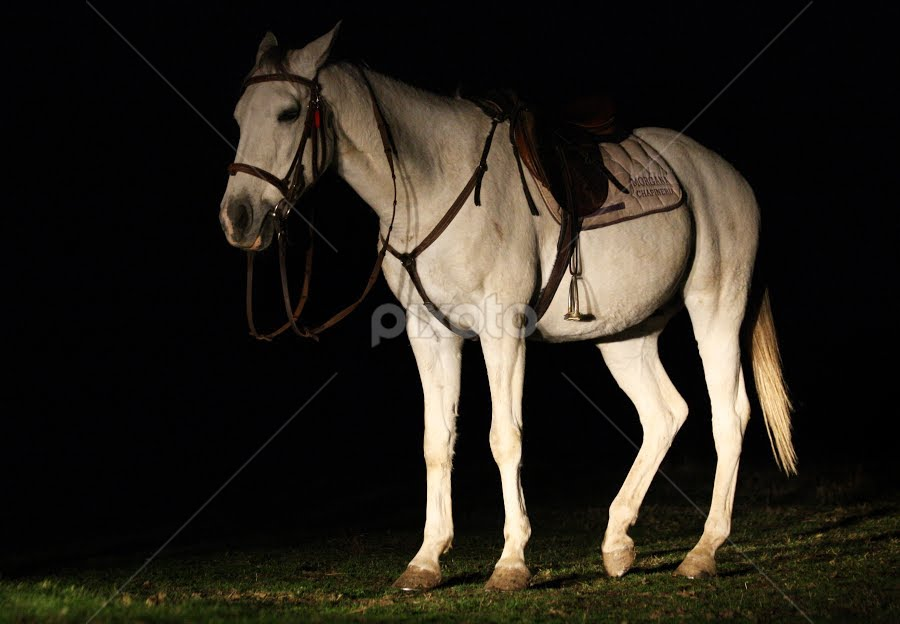Horse: (199, 27, 772, 592)
